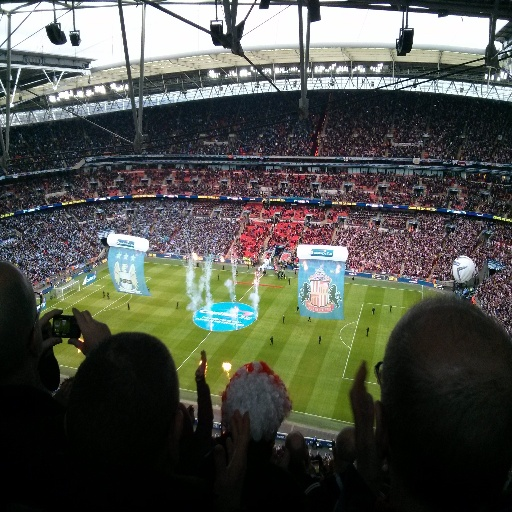hand: (66, 306, 113, 359), (225, 405, 251, 486), (349, 354, 376, 432), (32, 309, 64, 363), (197, 348, 205, 372)
